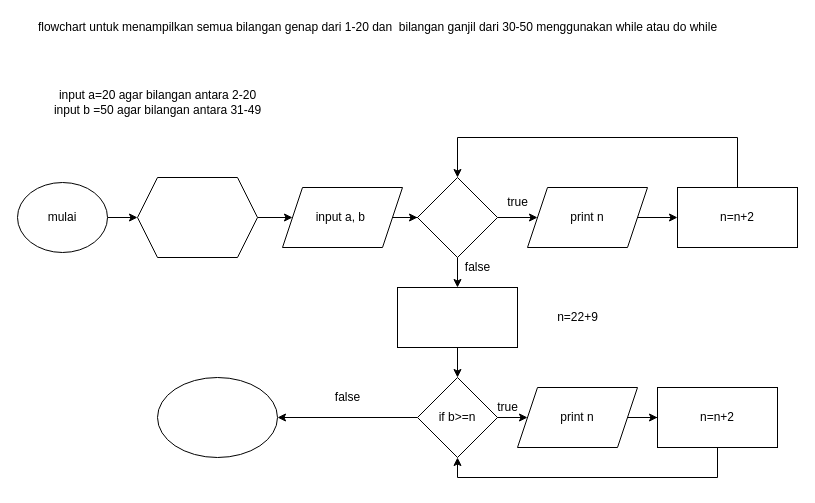
This 815x503 diagram has some shape labels left out. Each missing label, with the centre of its shape:
if a>=n: point (457, 217)
n=2: point (197, 217)
n=n+9: point (457, 317)
stop: point (217, 417)
